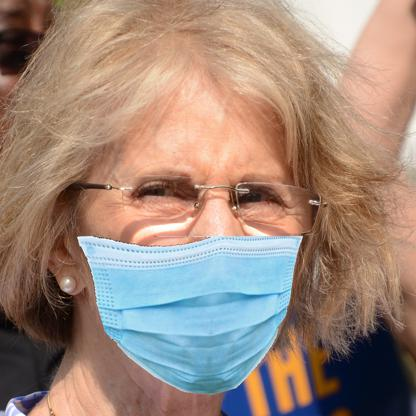mask: (72, 231, 302, 396)
